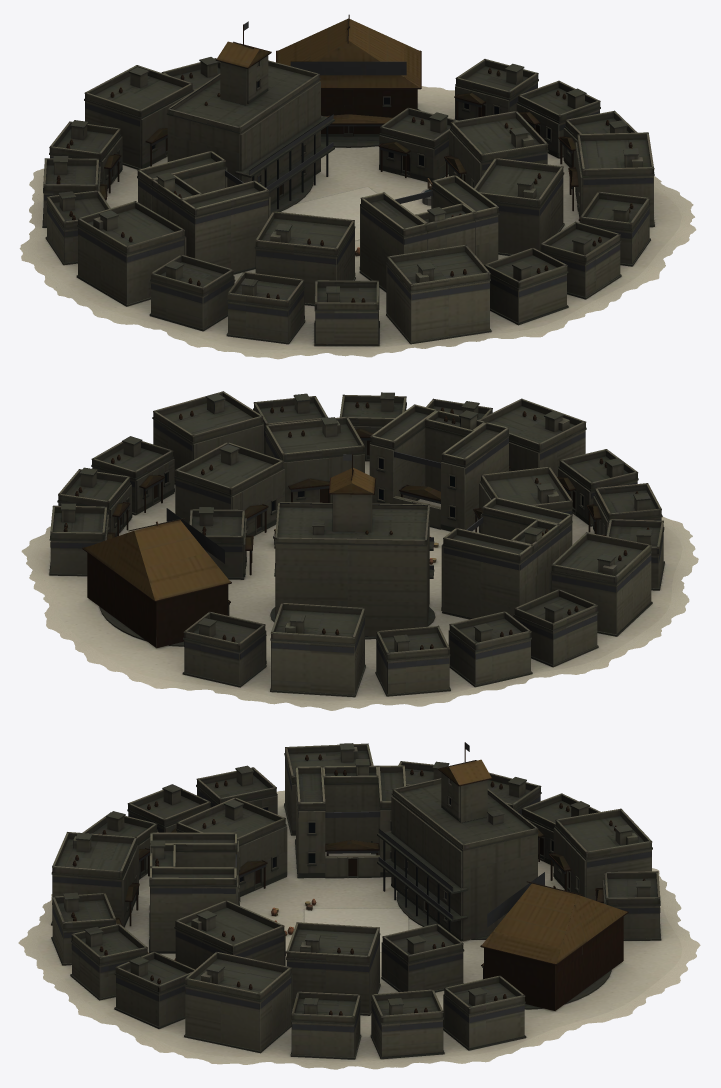
Rendered from gunpowder-town-big-a-eastafrica.glb.
3 views of the same model, one above another, from view 1: azimuth 30°, elevation 25°; view 2: azimuth 150°, elevation 25°; view 3: azimuth 270°, elevation 25° (orthographic).
Parts seen in each view (by area): view 1: LOD0; view 2: LOD0; view 3: LOD0.
Part boxes in pixels (x1,y1,x2,y2): LOD0: [19, 14, 696, 359]; LOD0: [21, 391, 698, 710]; LOD0: [18, 742, 700, 1069].
Size of what is drawn, in the model's own units: 7.89 by 2.13 by 8.04.
3 materials, 3 textured.
